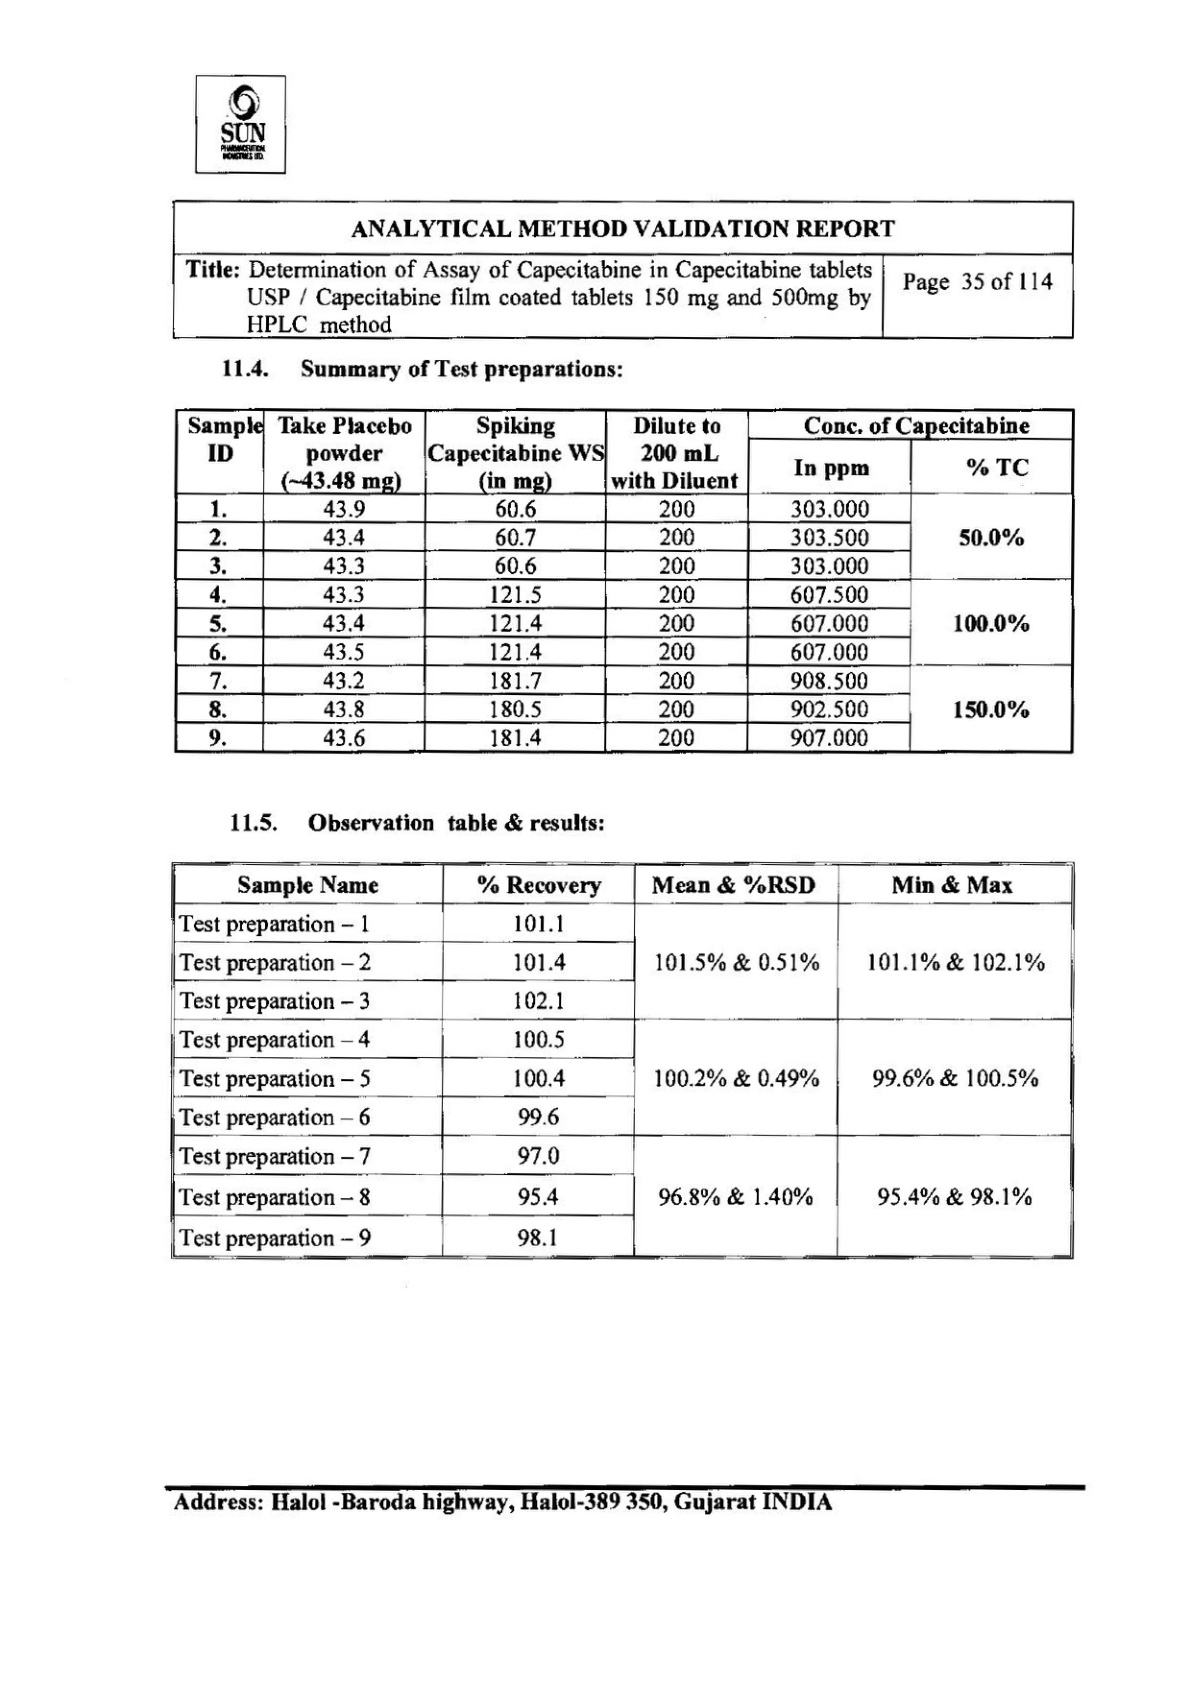merged_cells: (170, 860, 1075, 1262), (174, 407, 1075, 755), (171, 198, 1075, 340)
